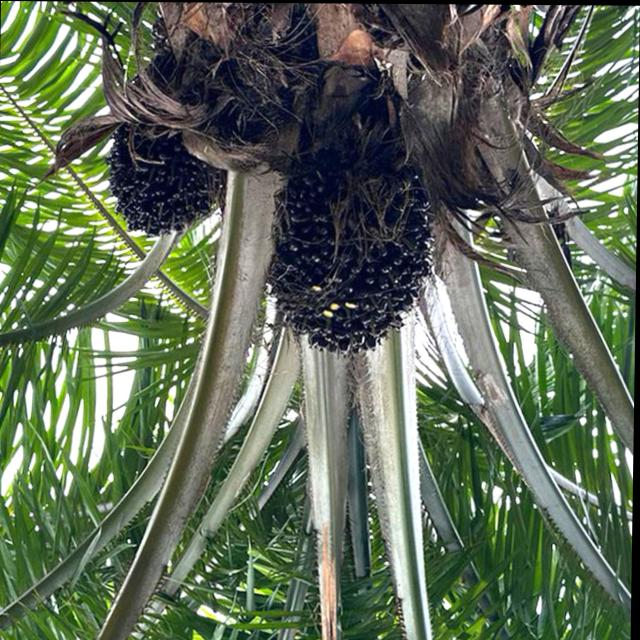unripe: (250, 138, 446, 370), (95, 95, 232, 247)
